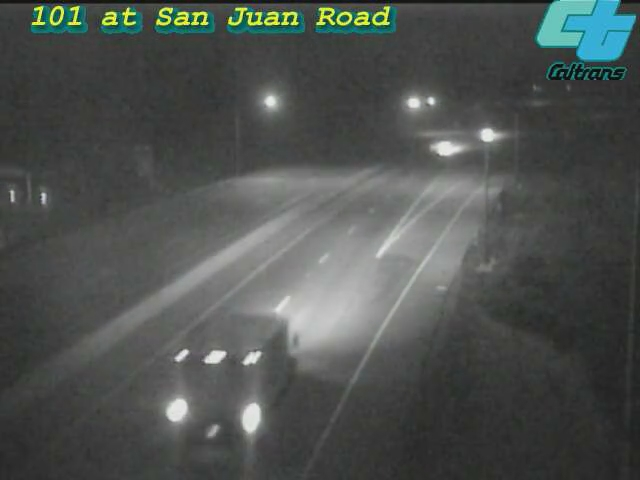vehicle: (168, 322, 278, 432), (462, 111, 512, 161), (423, 121, 473, 171)
